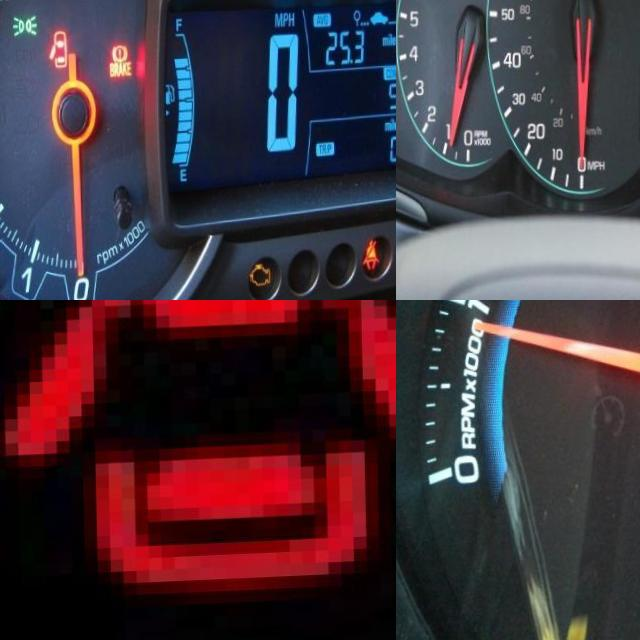Doors: (0, 300, 396, 590), (46, 30, 66, 70)
SideLamp: (9, 13, 36, 38)
